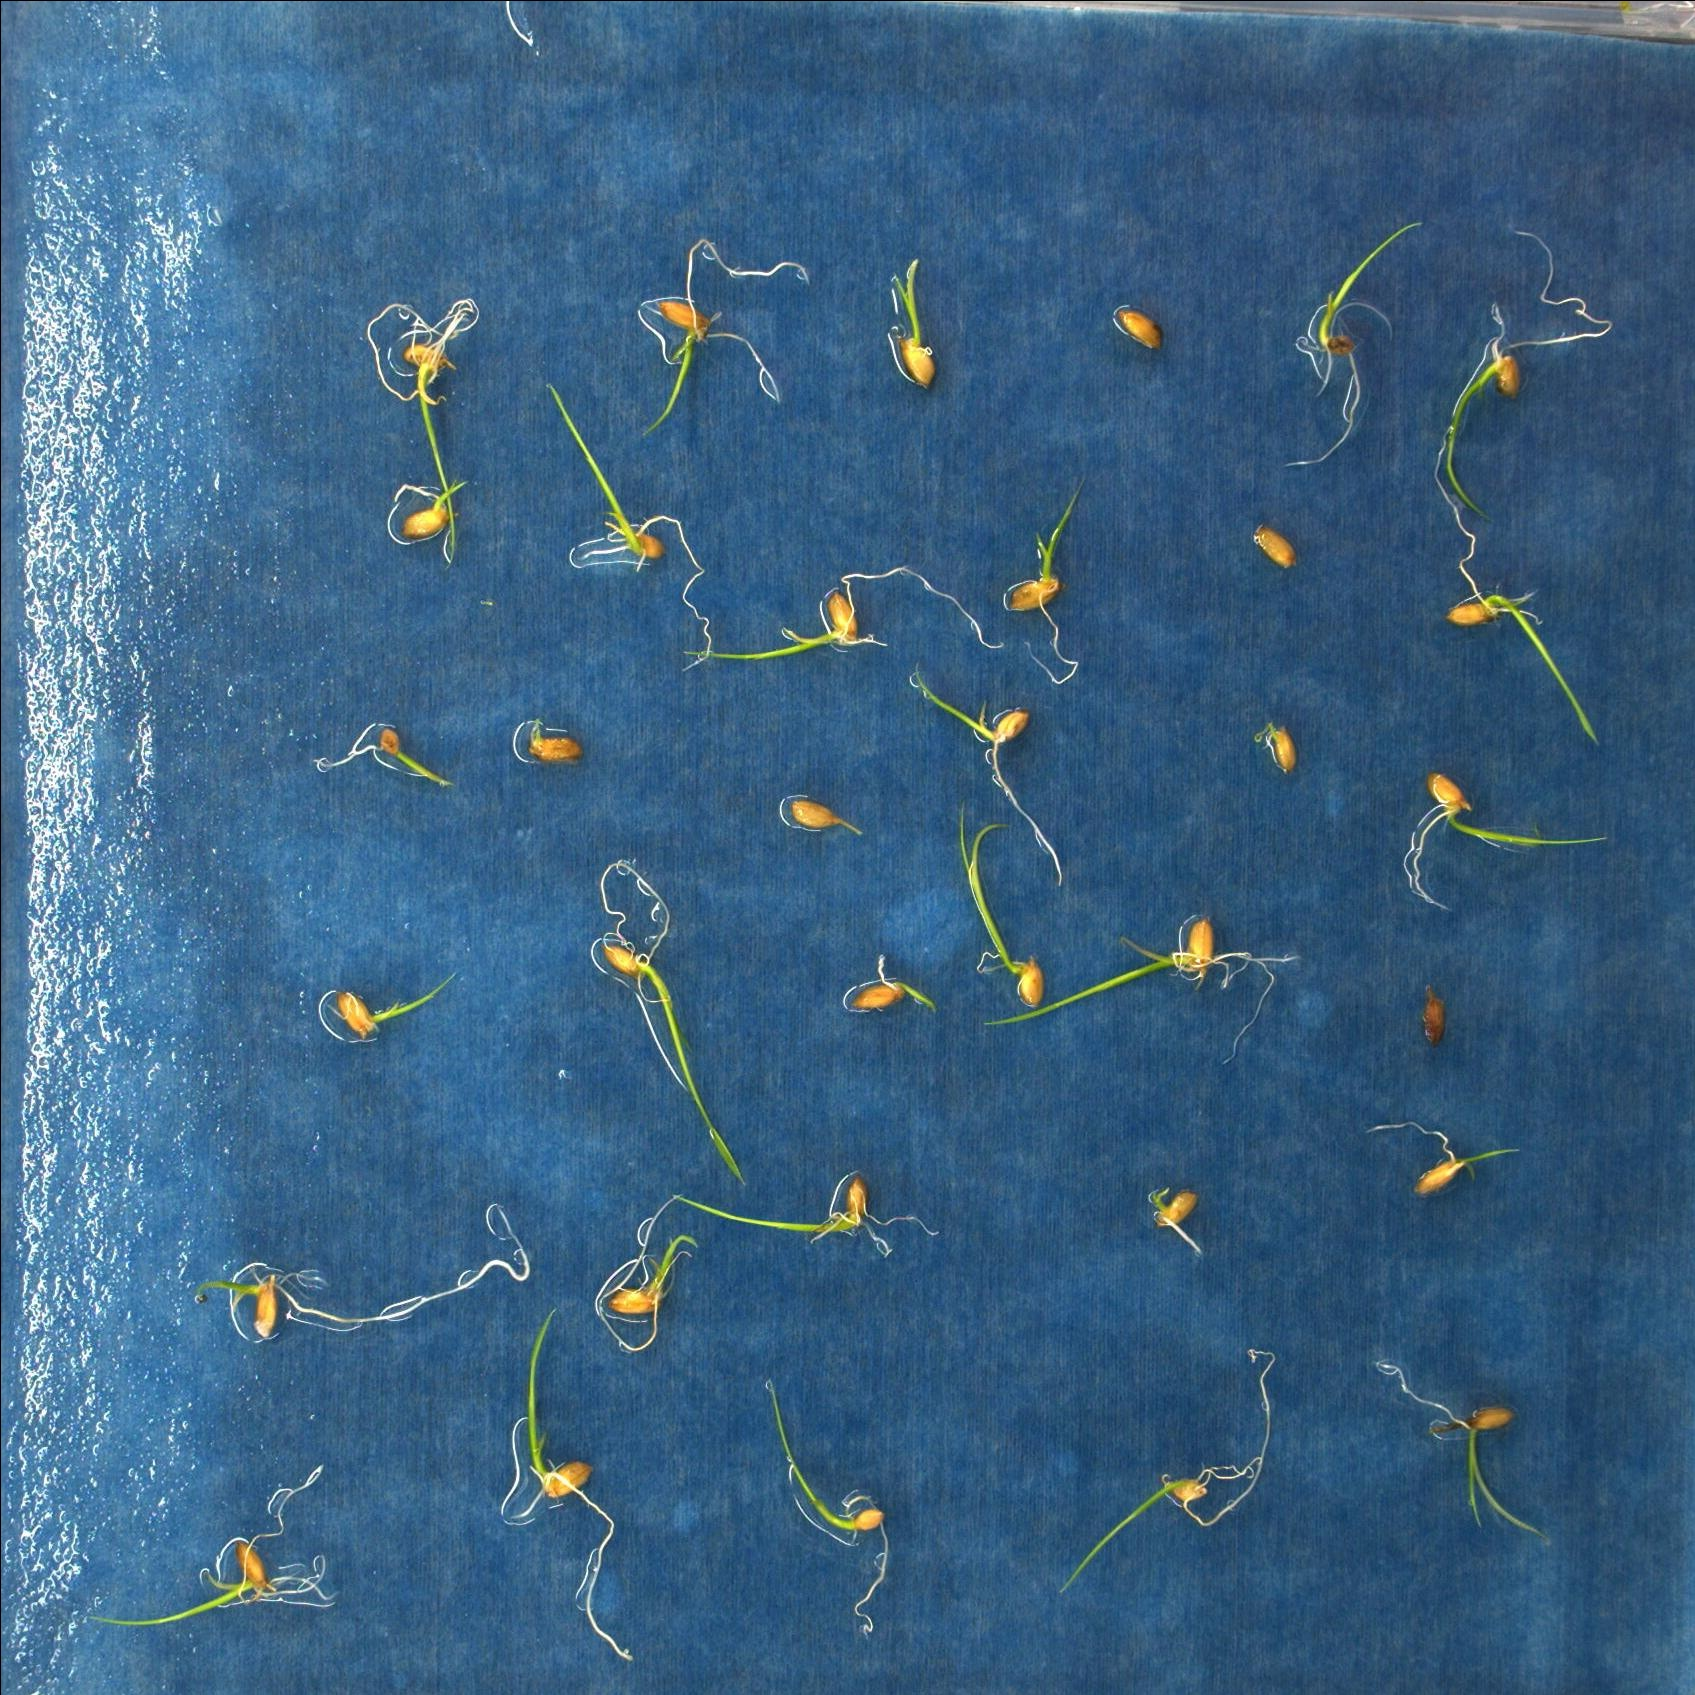not sprout: (789, 799, 866, 838), (528, 717, 587, 765), (1118, 304, 1166, 352), (1419, 979, 1451, 1048), (1256, 722, 1298, 775), (1251, 523, 1298, 568)
sprout: (1433, 424, 1603, 747), (1060, 1347, 1279, 1594), (588, 860, 747, 1186), (984, 910, 1304, 1066), (1447, 227, 1613, 525), (543, 379, 712, 671), (197, 1203, 532, 1341), (85, 1461, 331, 1631), (525, 1307, 633, 1664), (1284, 217, 1425, 466), (911, 660, 1063, 886), (640, 237, 810, 439), (1374, 1360, 1552, 1543), (683, 563, 1004, 664), (767, 1375, 889, 1634), (365, 293, 478, 567), (1405, 768, 1607, 913), (674, 1172, 941, 1257), (1004, 466, 1090, 685), (958, 799, 1045, 1007), (598, 1194, 698, 1352), (1366, 1121, 1520, 1201), (312, 725, 453, 792), (334, 969, 459, 1038), (891, 258, 938, 390), (854, 953, 941, 1018), (397, 478, 470, 542), (1146, 1186, 1205, 1254)
